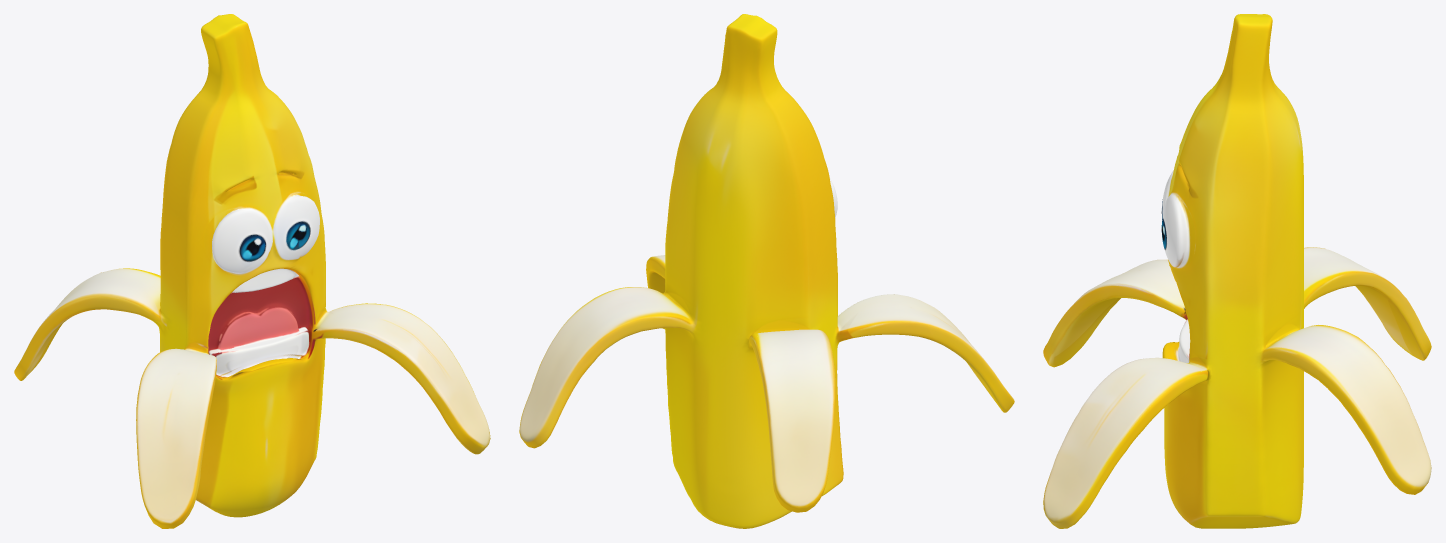
Rendered from banana.glb.
3 views of the same model, side by side, from view 1: azimuth 30°, elevation 25°; view 2: azimuth 150°, elevation 25°; view 3: azimuth 270°, elevation 25° (orthographic). The views are drawn at different scales.
Visible parts, largest first — view 1: model; view 2: model; view 3: model.
Part boxes in pixels (x1=…): model: x1=14, y1=14, x2=490, y2=528; model: x1=519, y1=14, x2=1014, y2=528; model: x1=1043, y1=14, x2=1431, y2=528.
Size of the model in its own units: 1.43 by 1.91 by 1.33.
Materials: 1 (1 with a texture image).
